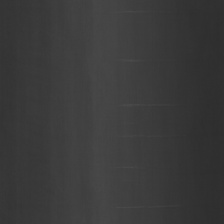waist_folding: (106, 35, 179, 202)
